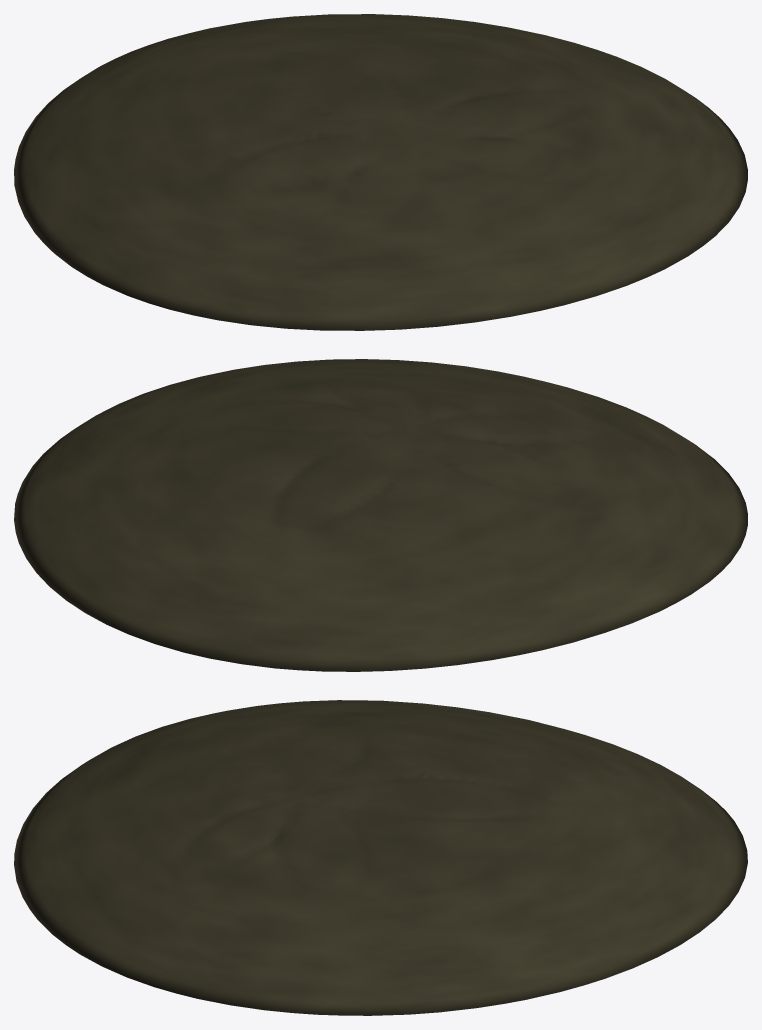
3 renders of one model, top to bottom at view 1: azimuth 30°, elevation 25°; view 2: azimuth 150°, elevation 25°; view 3: azimuth 270°, elevation 25°, orthographic.
Parts seen in each view (by area): view 1: NEW657_Living_Dendraster; view 2: NEW657_Living_Dendraster; view 3: NEW657_Living_Dendraster.
Part boxes in pixels (x1,y1,x2,y2): NEW657_Living_Dendraster: [14, 14, 747, 330]; NEW657_Living_Dendraster: [14, 359, 747, 671]; NEW657_Living_Dendraster: [14, 700, 747, 1015].
Bounding box in the file's own units: 0.07 × 0.008 × 0.0698.
1 material, 1 textured.
